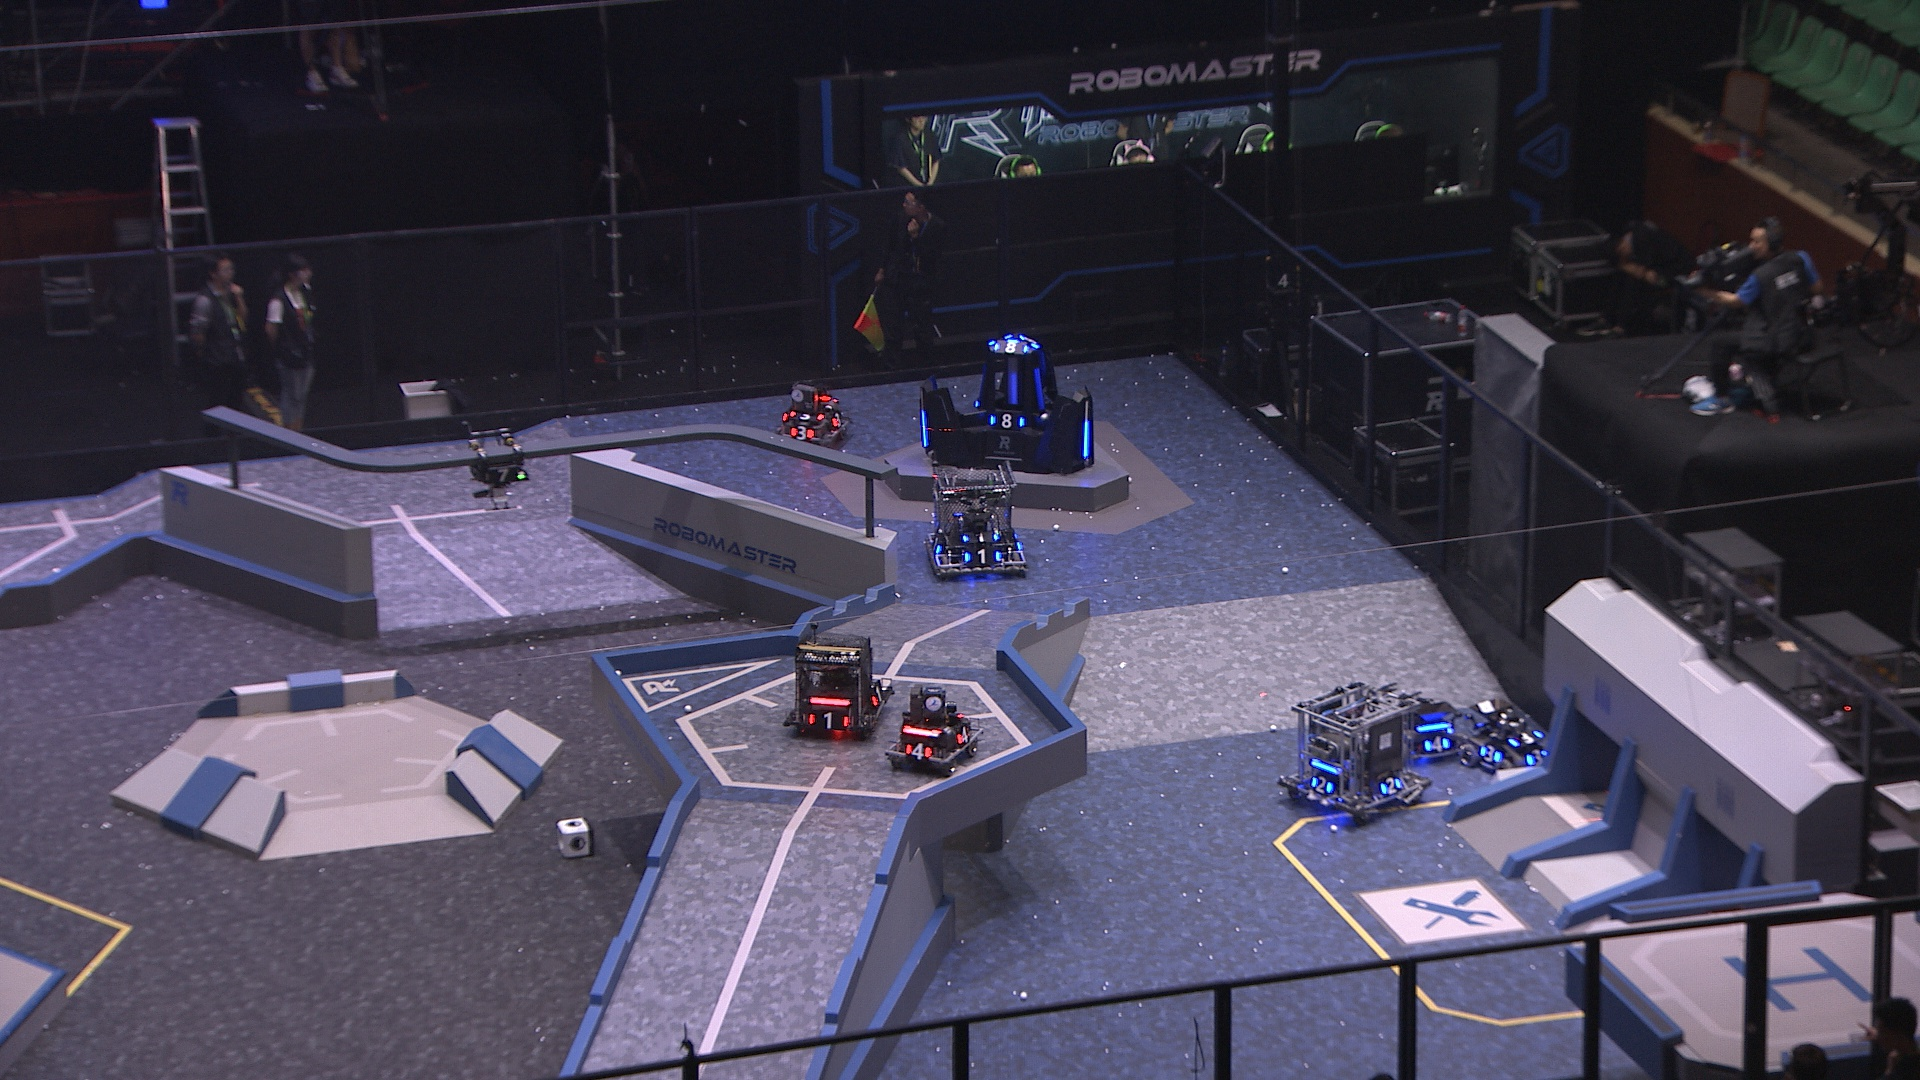armor: (480, 463, 531, 485), (961, 545, 1006, 567), (988, 410, 1026, 431), (1031, 367, 1048, 413), (960, 527, 1001, 546), (901, 741, 934, 764), (1522, 746, 1552, 770), (785, 425, 820, 444), (1505, 728, 1542, 746), (868, 678, 891, 705), (1424, 732, 1453, 754), (1309, 774, 1337, 796), (1004, 372, 1021, 407), (1375, 775, 1403, 796), (918, 405, 930, 452), (1476, 744, 1501, 765), (789, 407, 822, 423), (993, 339, 1029, 353), (827, 406, 847, 431), (953, 725, 975, 746), (923, 533, 944, 553), (1081, 418, 1091, 456)
base: (916, 327, 1096, 473)
car: (1271, 680, 1437, 822), (778, 622, 891, 745), (923, 456, 1029, 585), (1455, 690, 1561, 782), (885, 683, 982, 778), (1375, 684, 1468, 765), (766, 382, 852, 452), (782, 692, 849, 756)
watcher: (465, 425, 534, 512)
